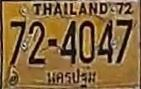0: (79, 20, 94, 62)
2: (28, 20, 45, 64)
4: (60, 20, 76, 63), (97, 19, 112, 62)
7: (116, 19, 132, 62), (10, 20, 25, 64)
NPT: (45, 66, 96, 88)
